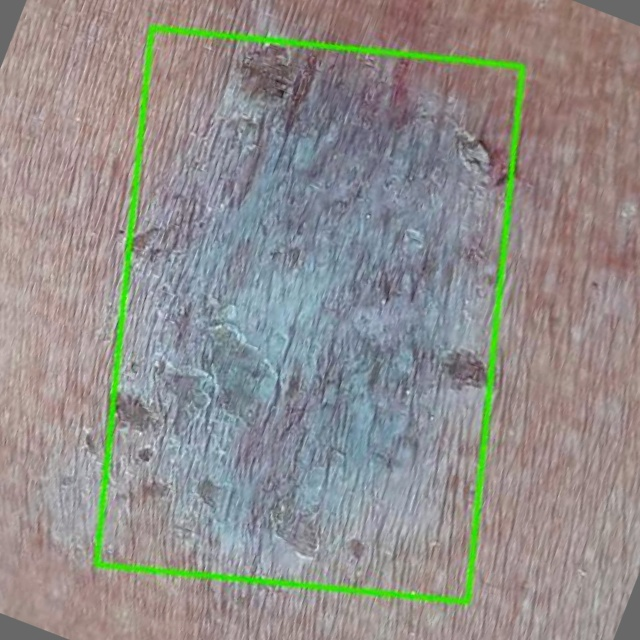Seborrheic Dermatitis: (97, 28, 522, 602)
